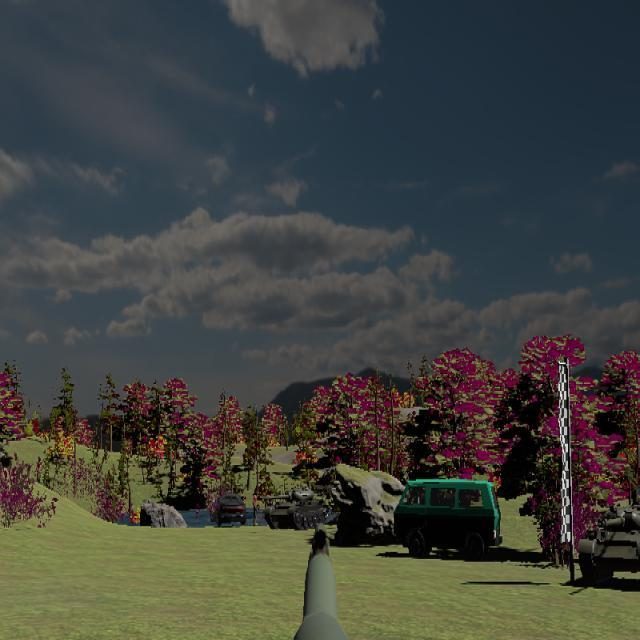Tank: (579, 504, 640, 588), (260, 485, 332, 532)
car: (394, 477, 502, 561), (394, 478, 502, 561), (215, 492, 248, 528)
